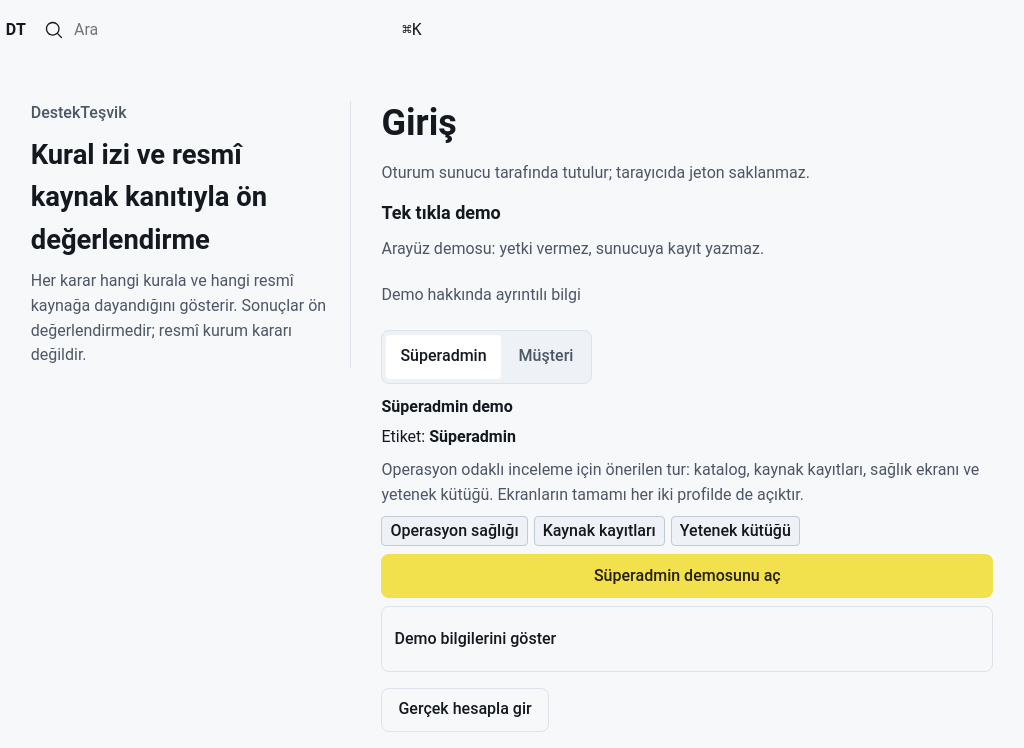
Test: a demo session is not a server session and sends no request pretending to be one › does not open the demo at all when the logout fails
Click the button "Süperadmin demosunu aç" at [687, 576], box [381, 554, 993, 598]
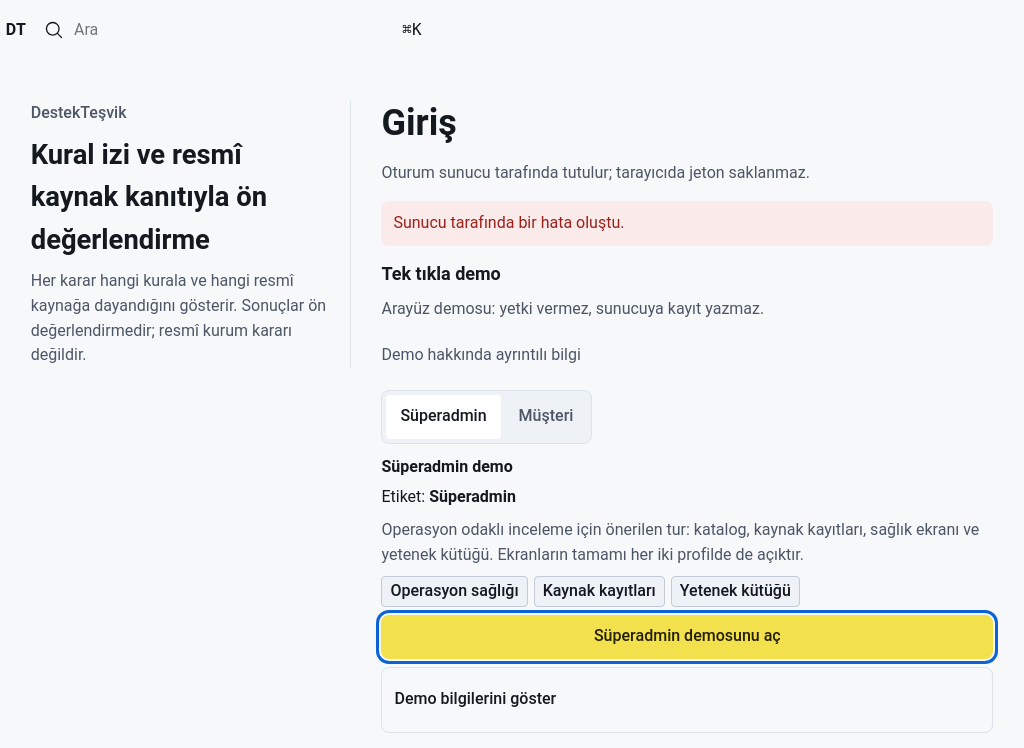
Check: the heading "Giriş" is shown, box [381, 102, 457, 144]
Check: the message "Sunucu tarafında bir hata oluştu." is shown, box [381, 202, 993, 246]
